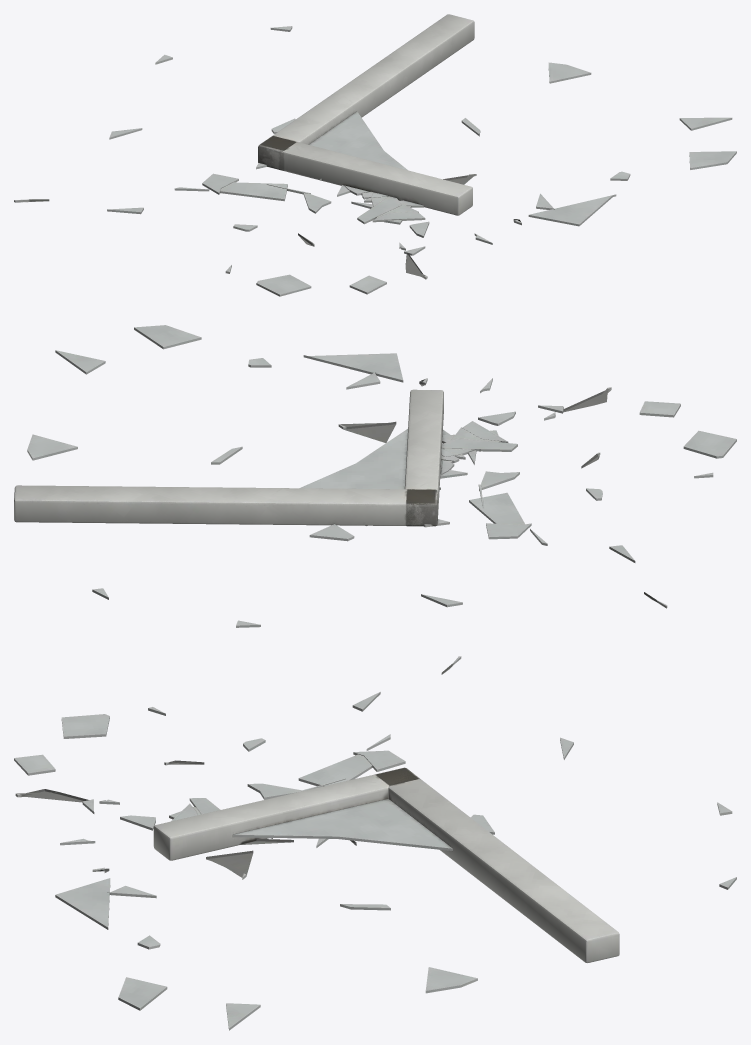
The model's file is cacos_vidro.glb.
3 renders of one model, top to bottom at view 1: azimuth 30°, elevation 25°; view 2: azimuth 150°, elevation 25°; view 3: azimuth 270°, elevation 25°, orthographic. The views are drawn at different scales.
Visible parts, largest first — view 1: cacos; view 2: cacos; view 3: cacos.
Boxes of the visible parts, x1=… form: cacos: x1=14, y1=14, x2=736, y2=296; cacos: x1=14, y1=325, x2=736, y2=627; cacos: x1=14, y1=656, x2=736, y2=1030.
Bounding box in the file's own units: 0.9825 × 0.03 × 0.8069.
1 material, 1 textured.
